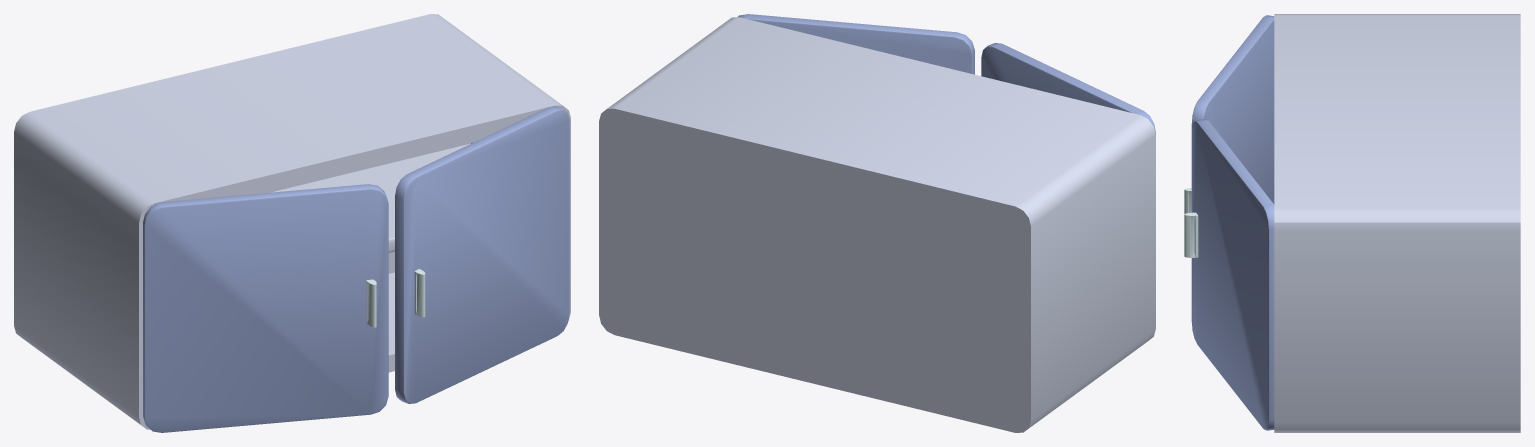
File: LongCupBoardwall.fbx
The picture shows the model from 3 angles, left to right: view 1: azimuth 30°, elevation 25°; view 2: azimuth 150°, elevation 25°; view 3: azimuth 270°, elevation 25°; orthographic projection.
Parts seen in each view (by area): view 1: longcupboard2; view 2: longcupboard2; view 3: longcupboard2.
Boxes of the visible parts, bbox=[...] form: longcupboard2: bbox=[14, 14, 570, 432]; longcupboard2: bbox=[599, 14, 1155, 432]; longcupboard2: bbox=[1184, 14, 1520, 432].
Bounding box in the file's own units: 115 × 57.71 × 78.68.
1 material, 1 textured.
